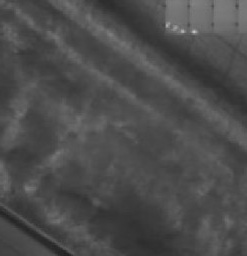solar: (163, 1, 190, 35), (187, 1, 214, 35), (212, 1, 239, 35)
